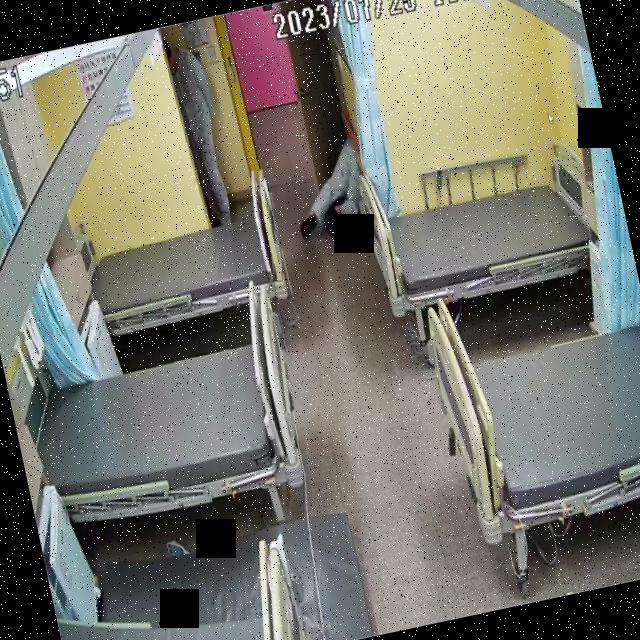bed: (418, 257, 640, 542), (21, 327, 310, 530), (358, 154, 612, 319), (84, 201, 288, 336)
fall: (286, 134, 375, 248)
patient: (162, 20, 238, 226), (286, 133, 376, 246)
stand: (160, 20, 238, 226)
